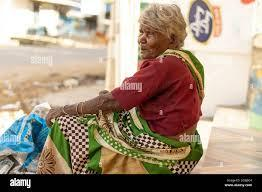Human: (38, 2, 210, 174)
